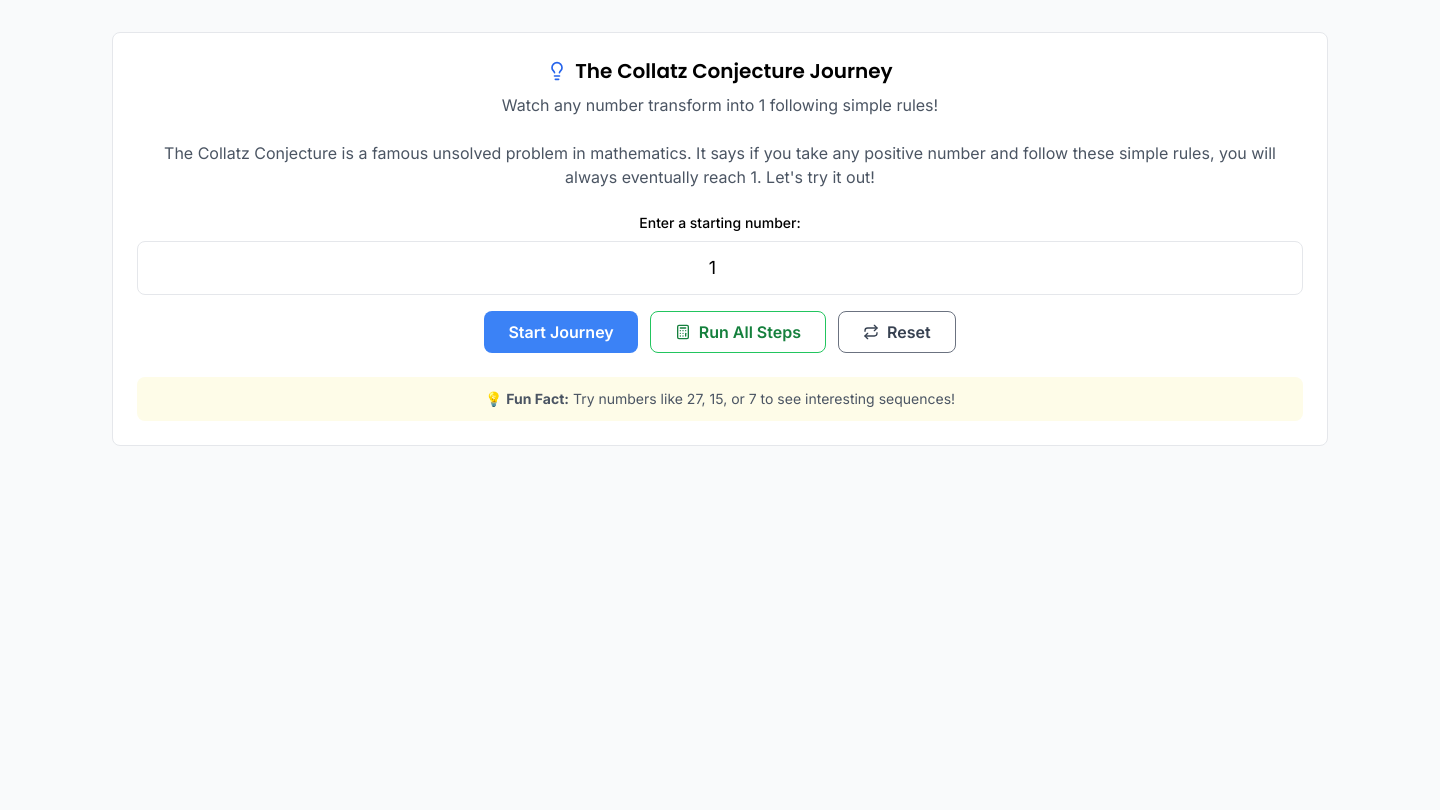
CollatzVisualizer › shows completion message when reaching 1
Click the button "Start Journey" at (561,332), box [484,311,638,353]
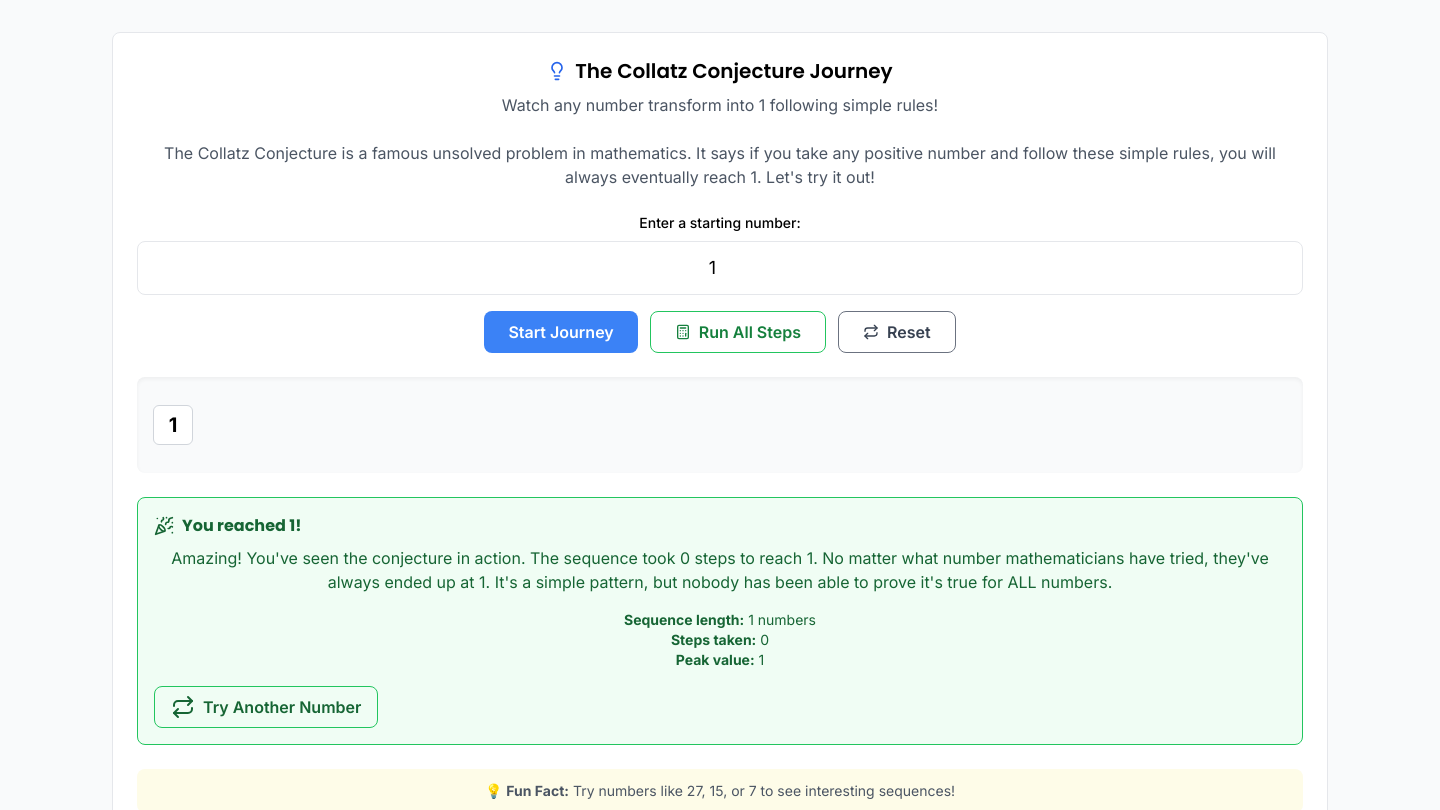
Expected: the heading "You reached 1!" is shown, [154,514,302,537]
